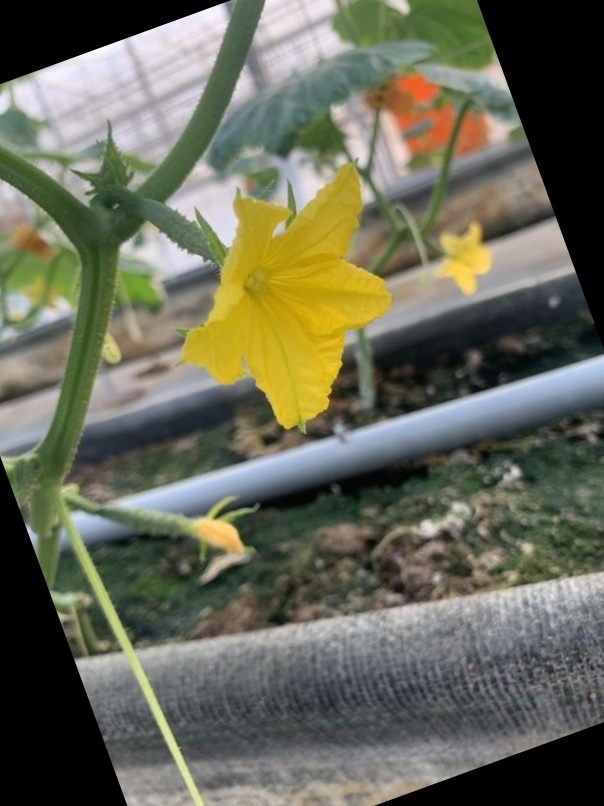flowering: (102, 153, 434, 440)
